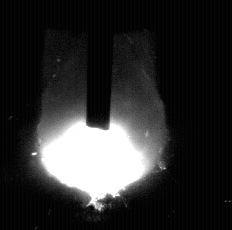arame: (87, 0, 111, 130)
poca: (37, 0, 167, 230)
